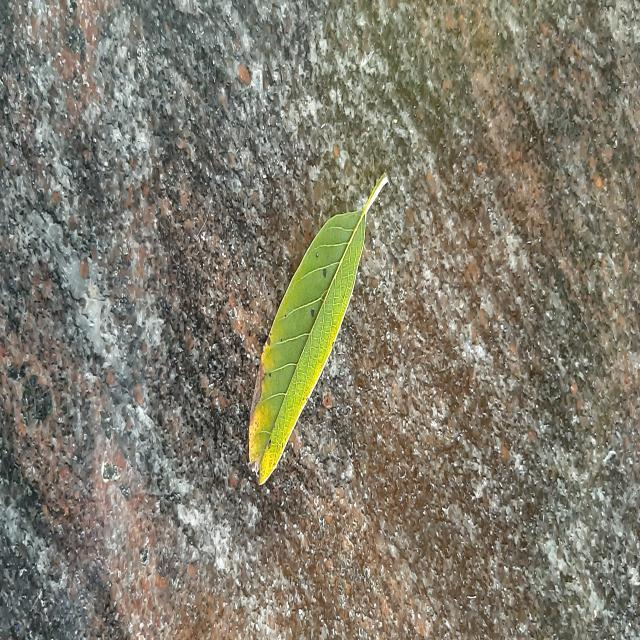leaf: (246, 172, 389, 485)
